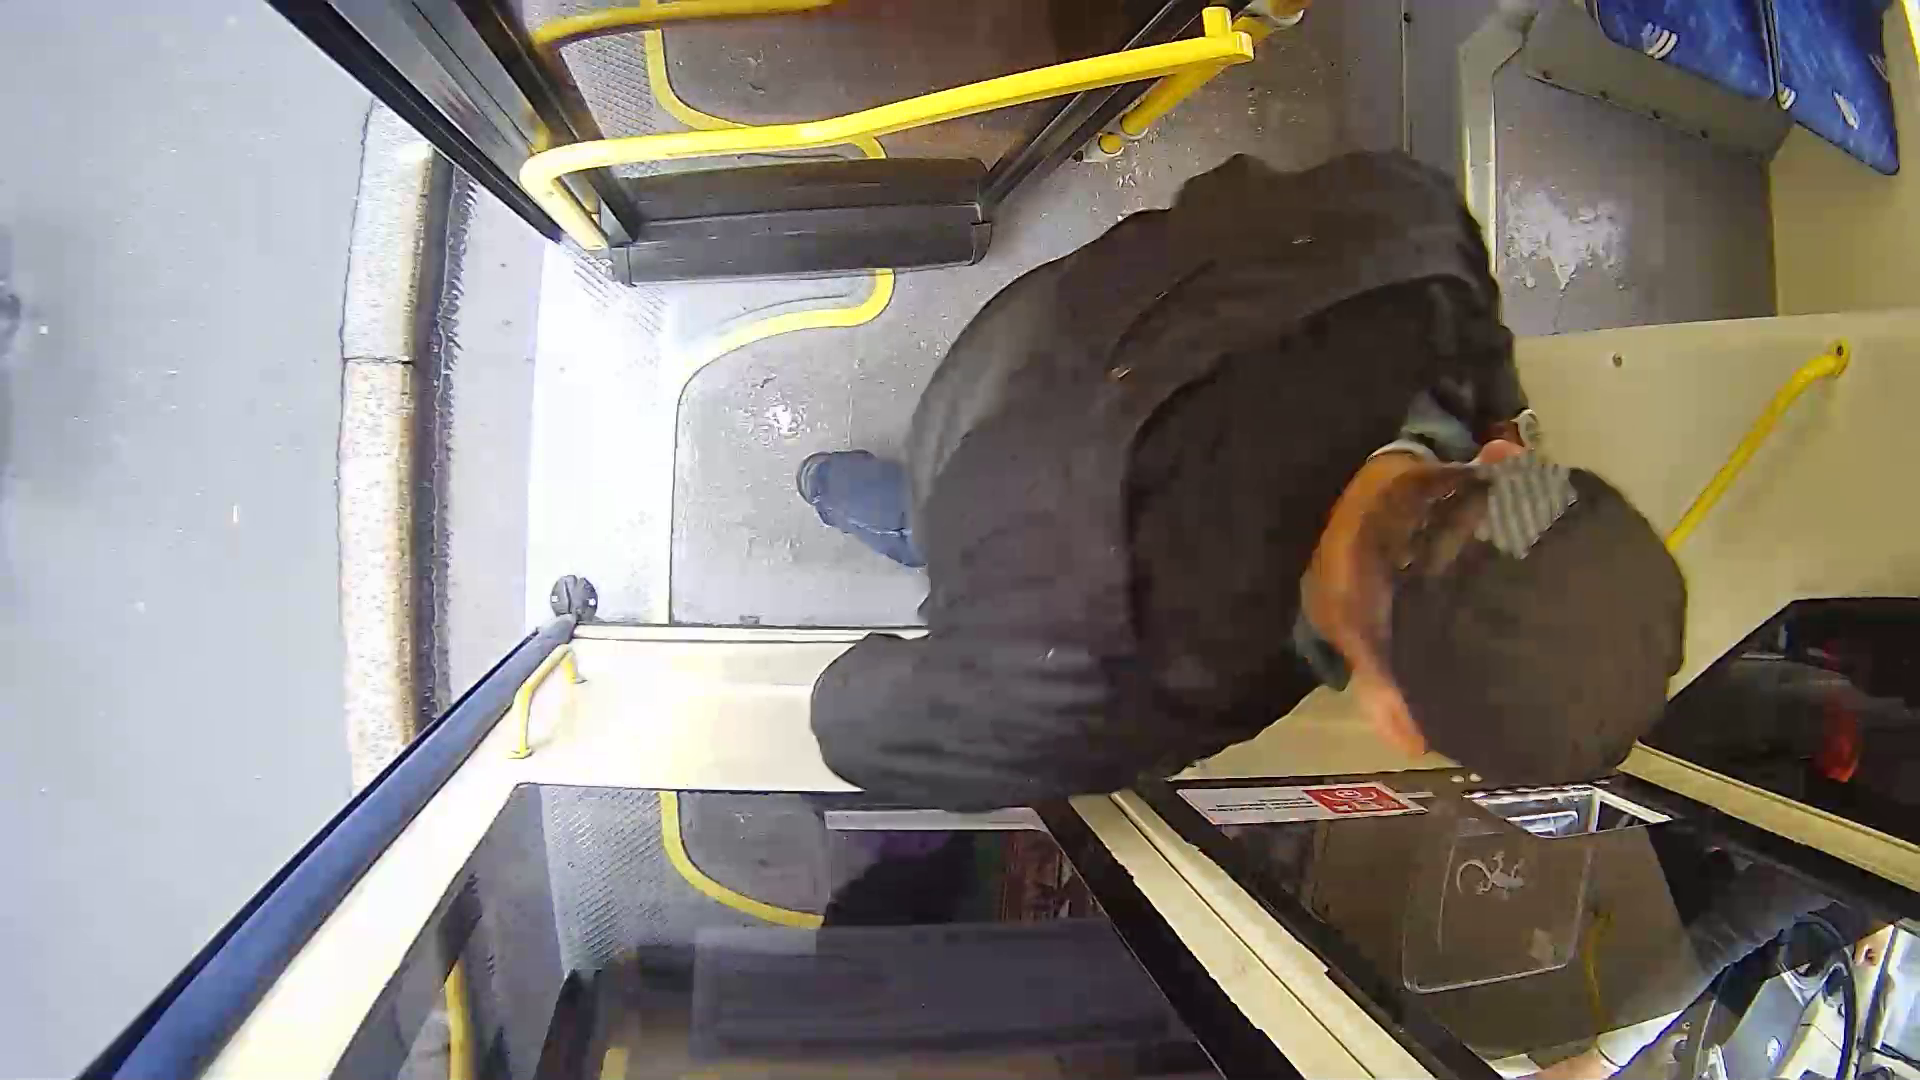person: (759, 142, 1727, 894)
